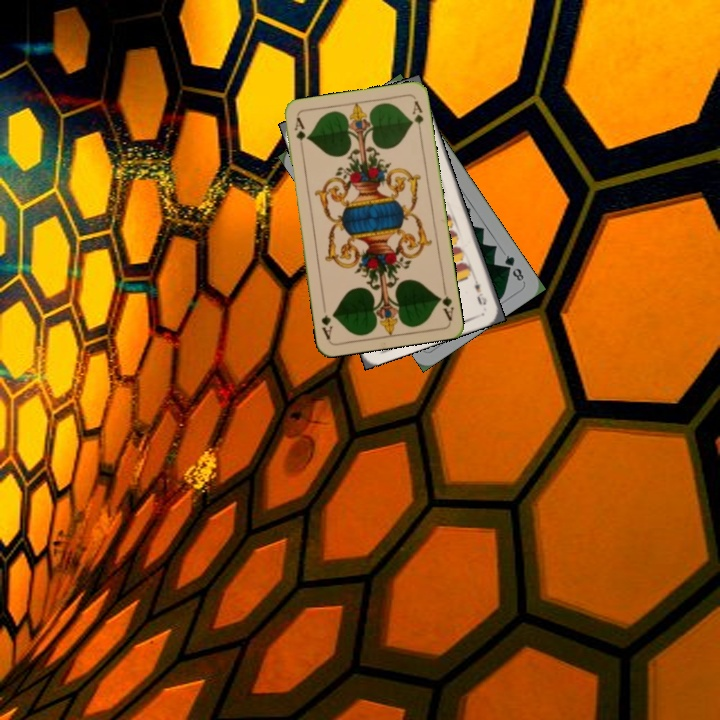E9: (468, 271, 490, 308)
G8: (500, 251, 527, 284)
GA: (434, 282, 456, 322), (290, 114, 308, 143)
